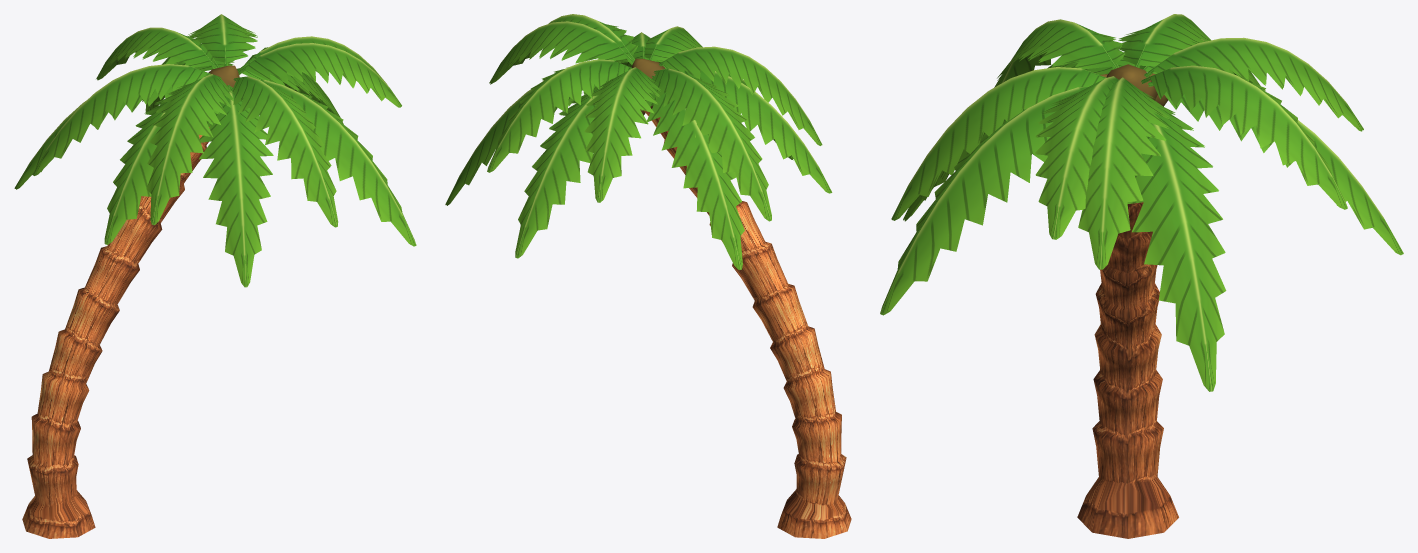
File: Kit_PalmB.fbx
The picture shows the model from 3 angles, left to right: view 1: azimuth 30°, elevation 25°; view 2: azimuth 150°, elevation 25°; view 3: azimuth 270°, elevation 25°; orthographic projection. The views are drawn at different scales.
Visible parts, largest first — view 1: Kit_PalmB; view 2: Kit_PalmB; view 3: Kit_PalmB.
Boxes of the visible parts, x1,y1,x2,y2 form: Kit_PalmB: [14, 14, 416, 538]; Kit_PalmB: [445, 14, 851, 538]; Kit_PalmB: [880, 14, 1403, 538].
Size of the model in its own units: 25.85 by 29.26 by 23.89.
1 material, 1 textured.
